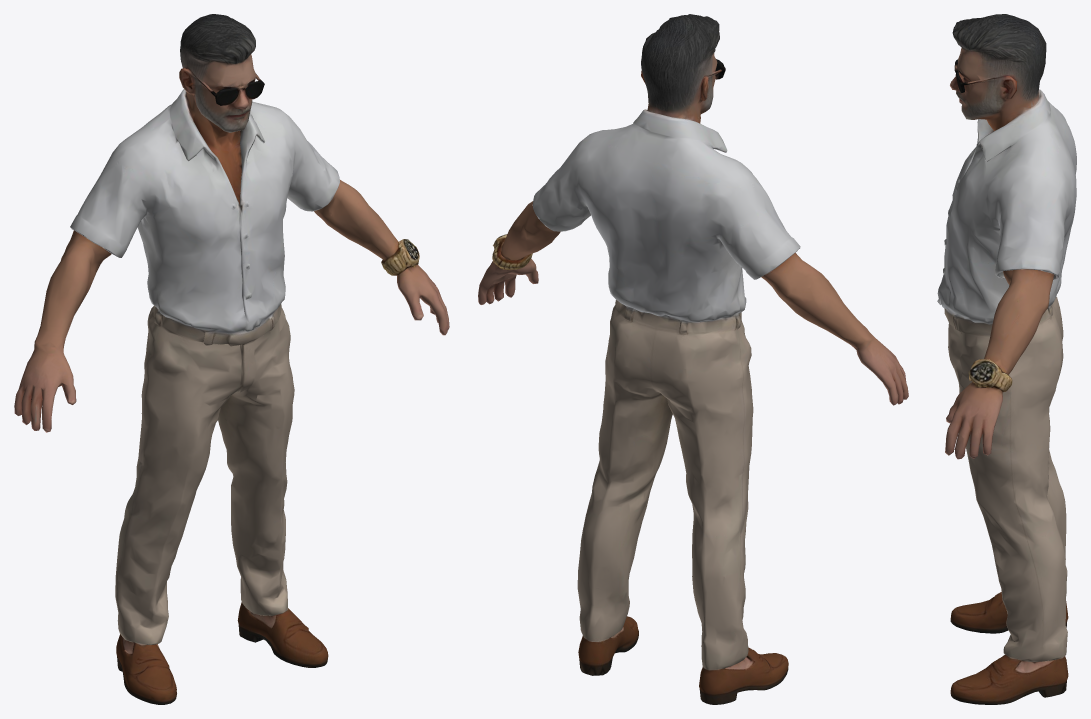
File: boss_z.glb
The picture shows the model from 3 angles, left to right: view 1: azimuth 30°, elevation 25°; view 2: azimuth 150°, elevation 25°; view 3: azimuth 270°, elevation 25°; orthographic projection.
Parts seen in each view (by area): view 1: tripo_node_507e4363-c930-4773-a9a6-b2fe303d92d6; view 2: tripo_node_507e4363-c930-4773-a9a6-b2fe303d92d6; view 3: tripo_node_507e4363-c930-4773-a9a6-b2fe303d92d6.
Part boxes in pixels (x1,y1,x2,y2): tripo_node_507e4363-c930-4773-a9a6-b2fe303d92d6: (14,14,449,704); tripo_node_507e4363-c930-4773-a9a6-b2fe303d92d6: (478,14,908,704); tripo_node_507e4363-c930-4773-a9a6-b2fe303d92d6: (937,14,1076,704).
Bounding box in the file's own units: 0.6805 × 1 × 0.1969.
1 material, 1 textured.
